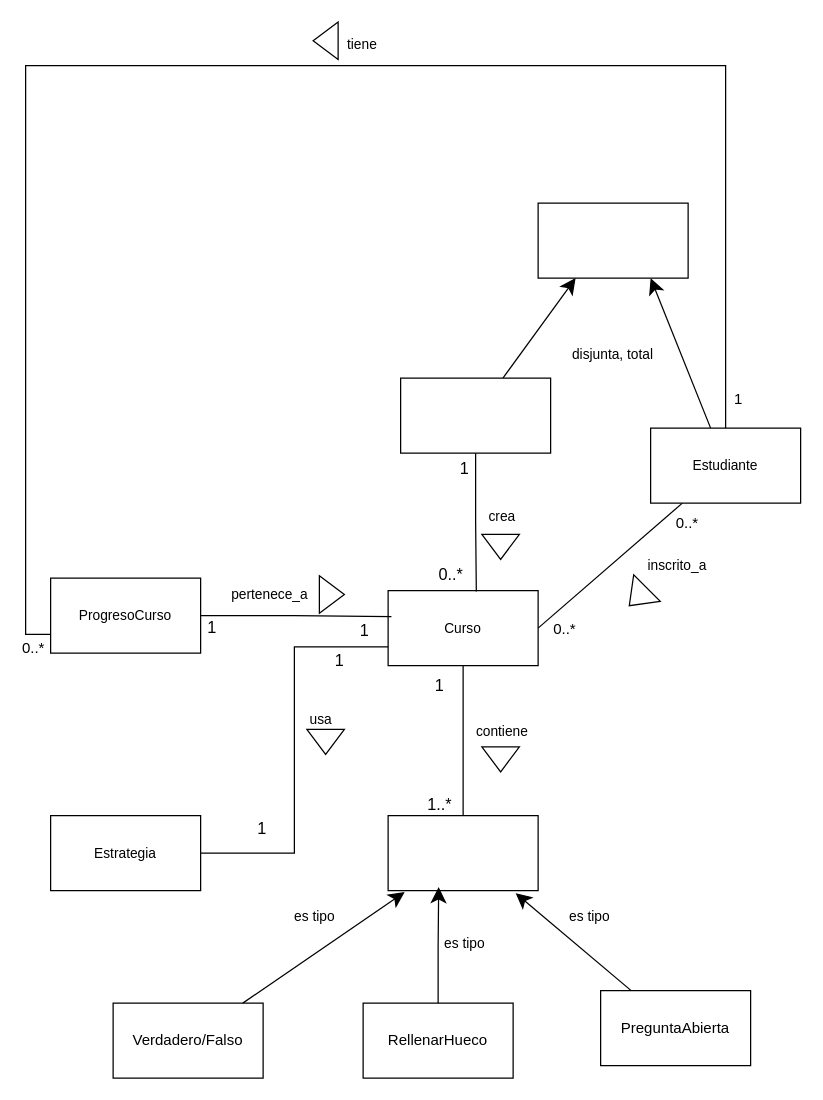
The diagram is 823 pixels wide and 1100 high, and some of its shapes have lost their labels. The centre of each missing label's shape, as x and y in pixels:
"Creador" goes at (x=475, y=415).
"Pregunta" goes at (x=462, y=852).
"Usuario" goes at (x=612, y=240).
